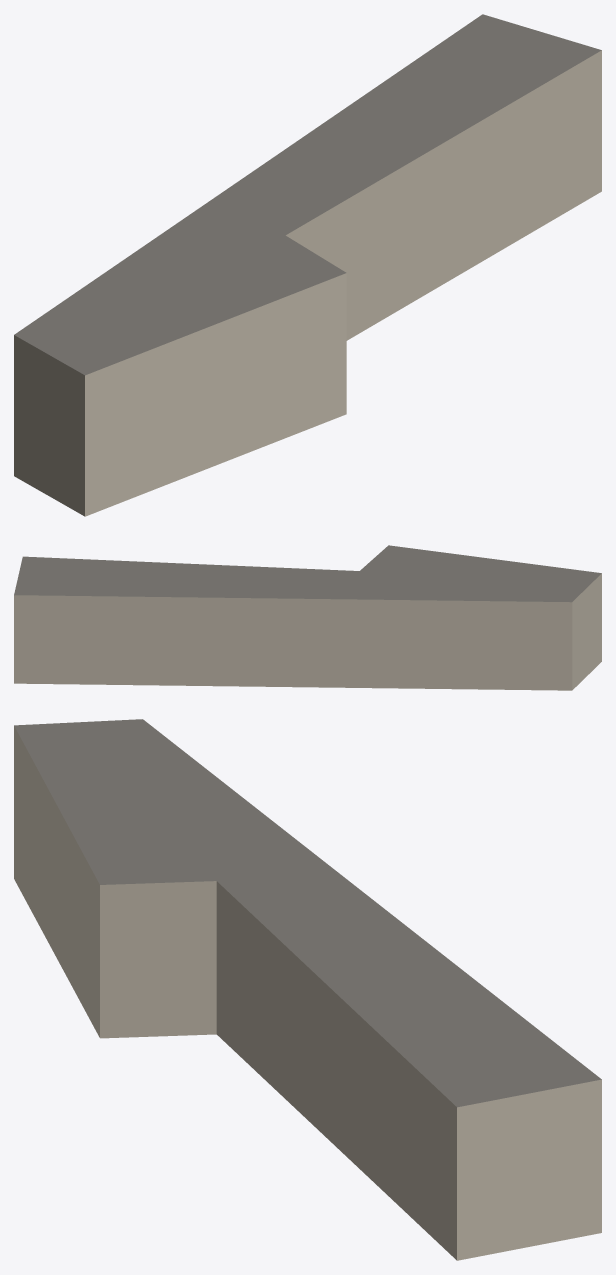
3 views of the same model, one above another, from view 1: azimuth 30°, elevation 25°; view 2: azimuth 150°, elevation 25°; view 3: azimuth 270°, elevation 25° (orthographic). The views are drawn at different scales.
Parts seen in each view (by area): view 1: HP-w372180515; view 2: HP-w372180515; view 3: HP-w372180515.
Boxes of the visible parts, <box> form: HP-w372180515: <box>14,14,601,516</box>; HP-w372180515: <box>14,545,601,690</box>; HP-w372180515: <box>14,719,601,1260</box>.
Bounding box in the file's own units: 65.12 × 12 × 41.68.
